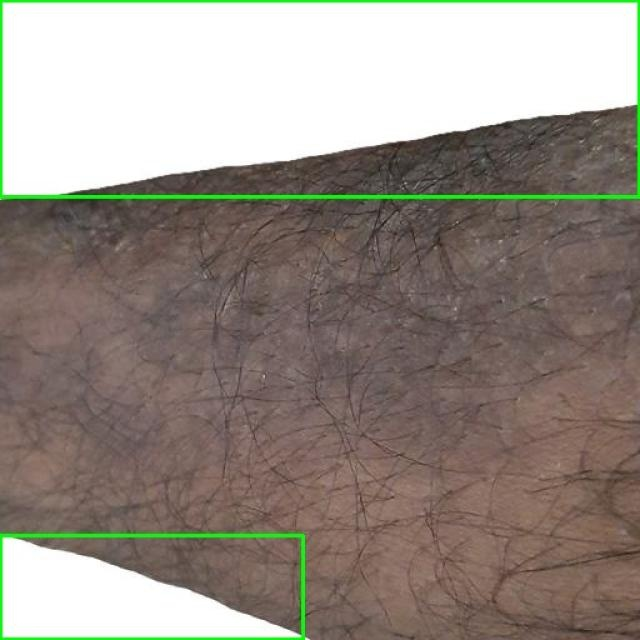Contact Dermatitis: (0, 0, 639, 198), (0, 535, 304, 639)
